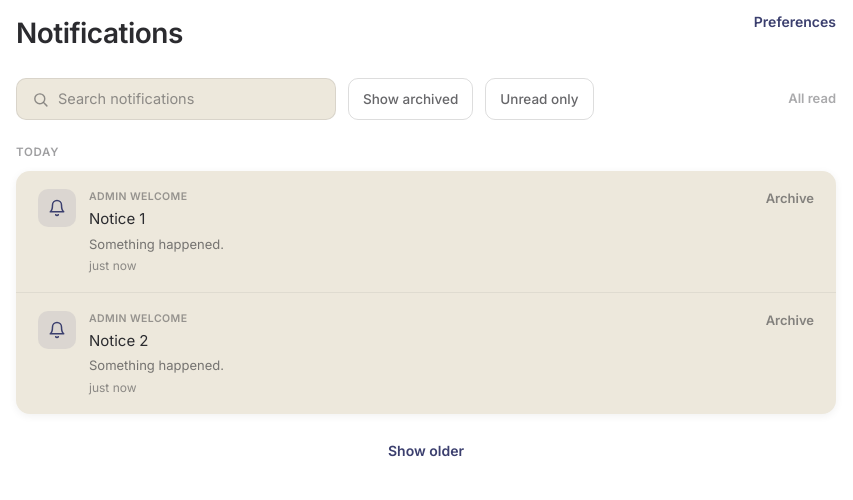
NotificationsView show older › does not say that's everything when the older page failed to load
This screenshot has width=853, height=500.
Click the button "Show older" at (426, 451), box [388,441,464,461]
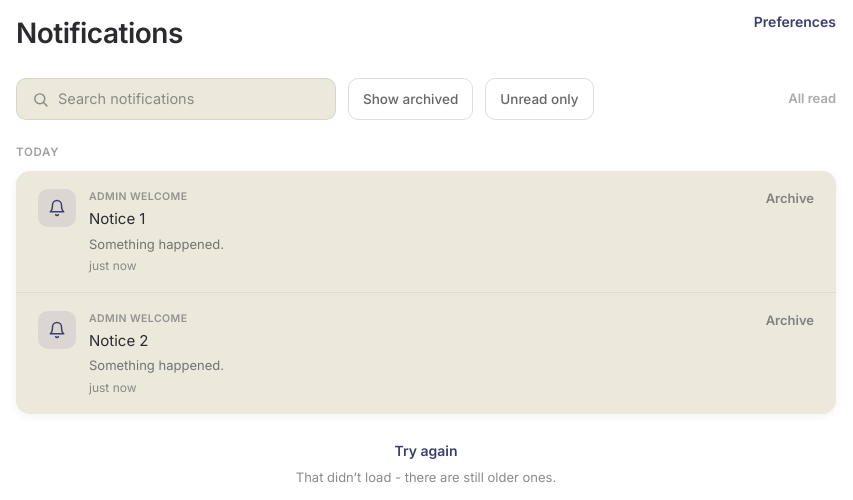
Expected: the button "Try again" is shown, [394,441,458,461]
